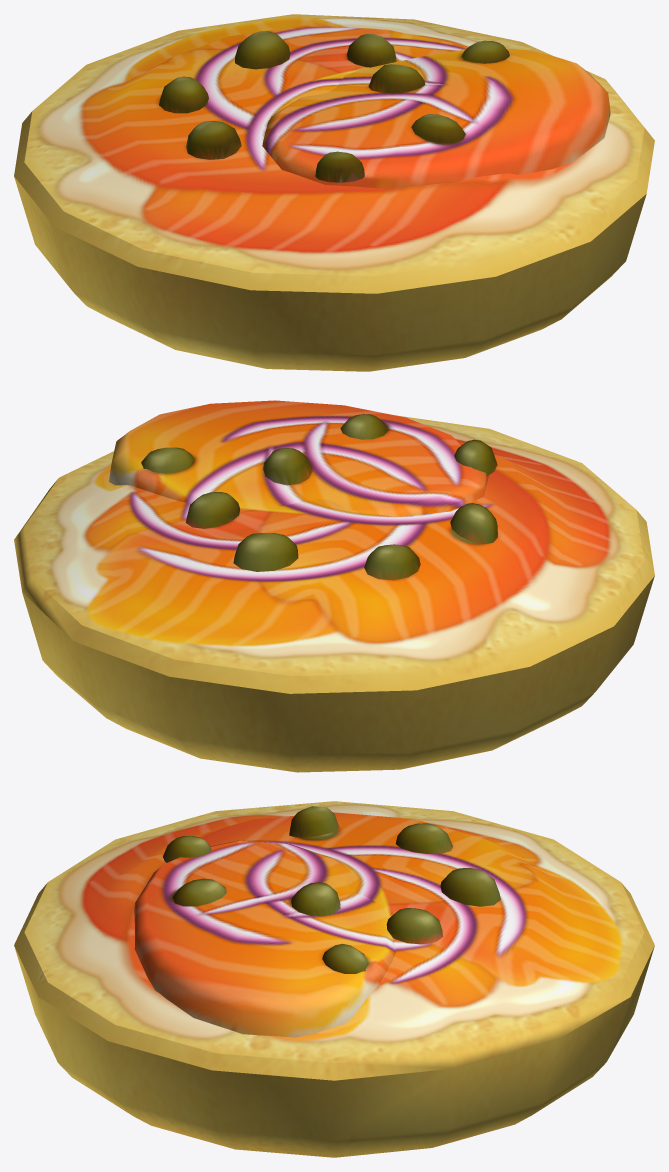
File: 011-Bagels_Halves_02.FBX
3 views of the same model, one above another, from view 1: azimuth 30°, elevation 25°; view 2: azimuth 150°, elevation 25°; view 3: azimuth 270°, elevation 25° (orthographic).
Visible parts, largest first — view 1: 011-Bagels_Halves_02; view 2: 011-Bagels_Halves_02; view 3: 011-Bagels_Halves_02.
Part boxes in pixels (x1,y1,x2,y2): 011-Bagels_Halves_02: (14, 14, 654, 371); 011-Bagels_Halves_02: (14, 400, 654, 772); 011-Bagels_Halves_02: (14, 801, 654, 1157).
Bounding box in the file's own units: 17.65 × 6.08 × 17.65.
